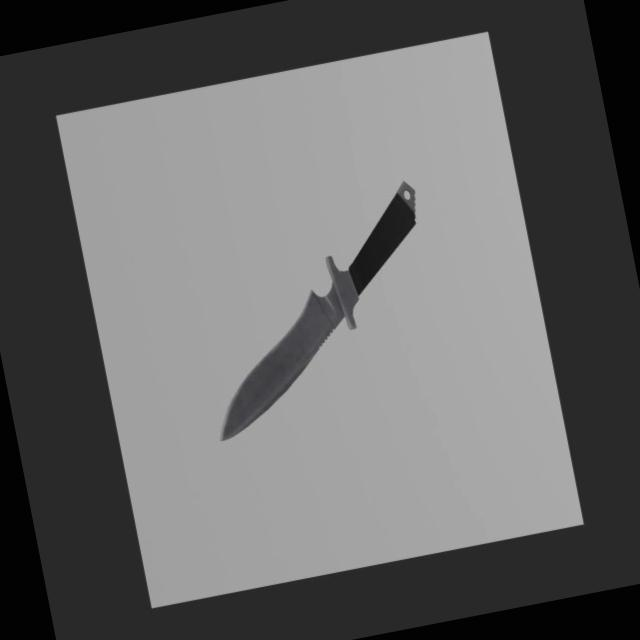knife: (334, 180, 432, 296)
